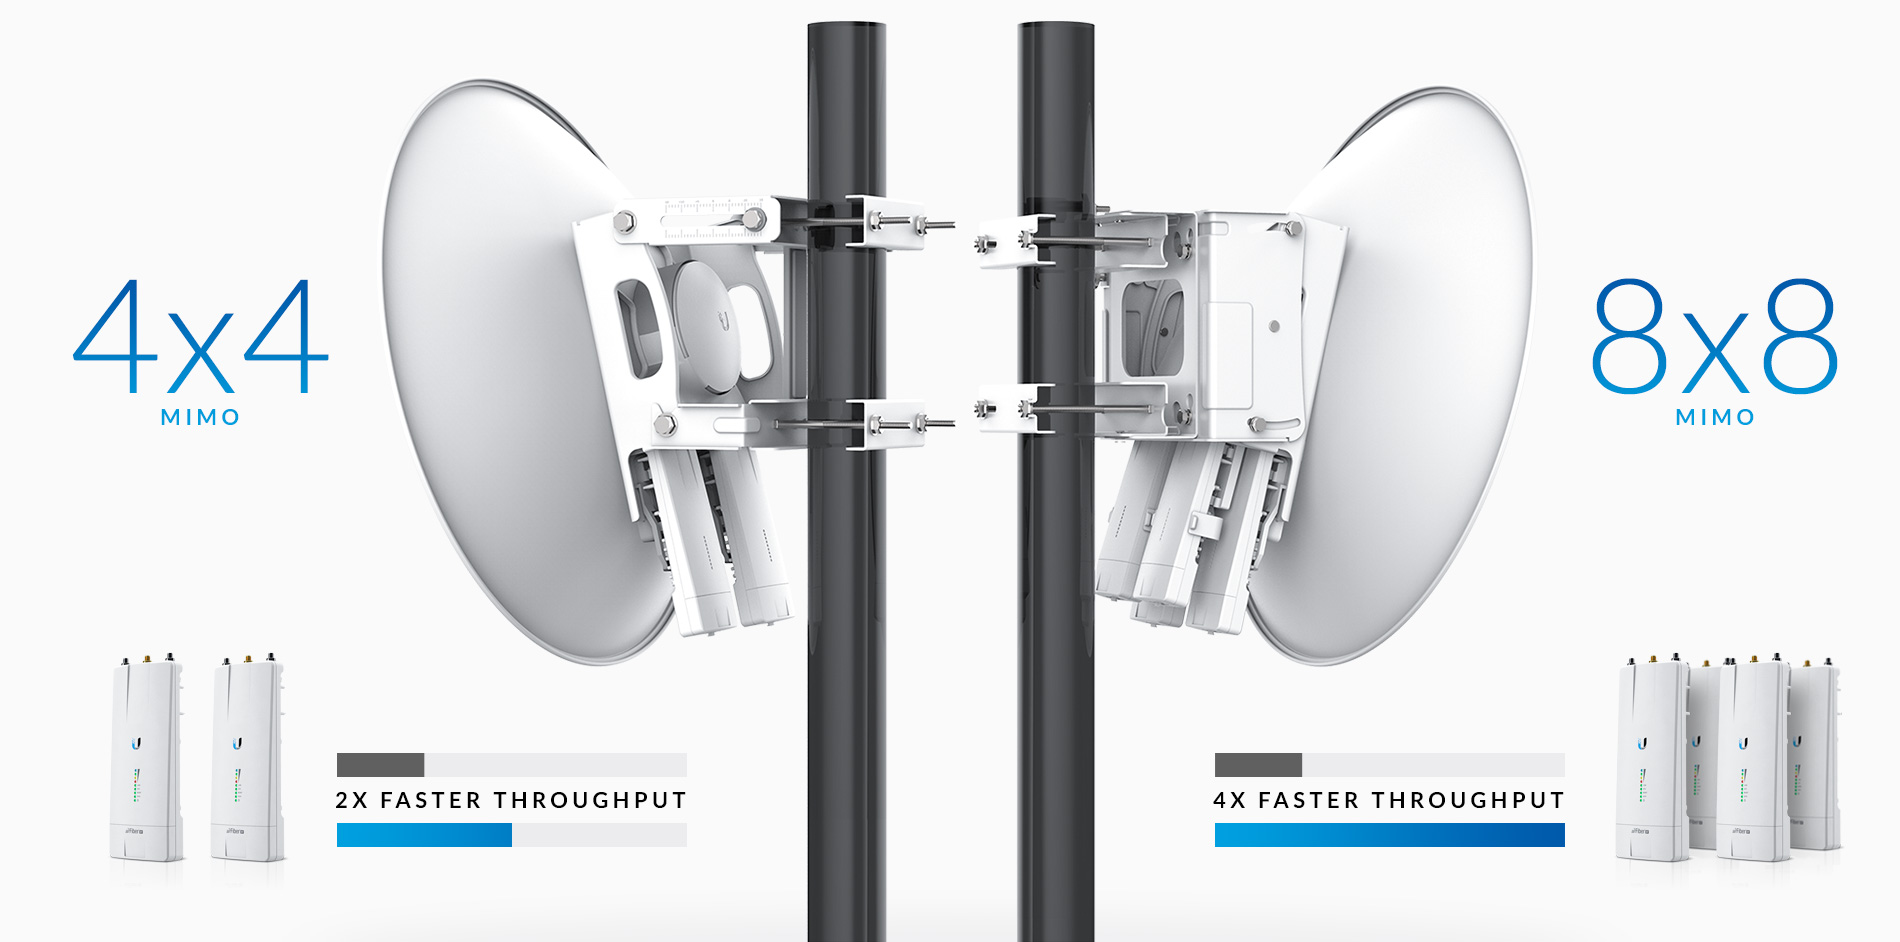ba: (357, 80, 815, 727), (1120, 72, 1539, 717)
